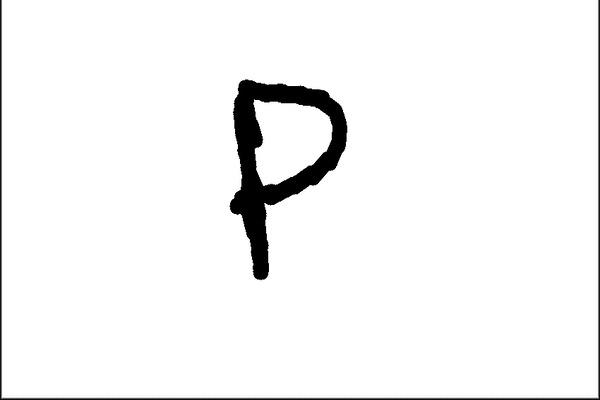P: (204, 63, 363, 291)
